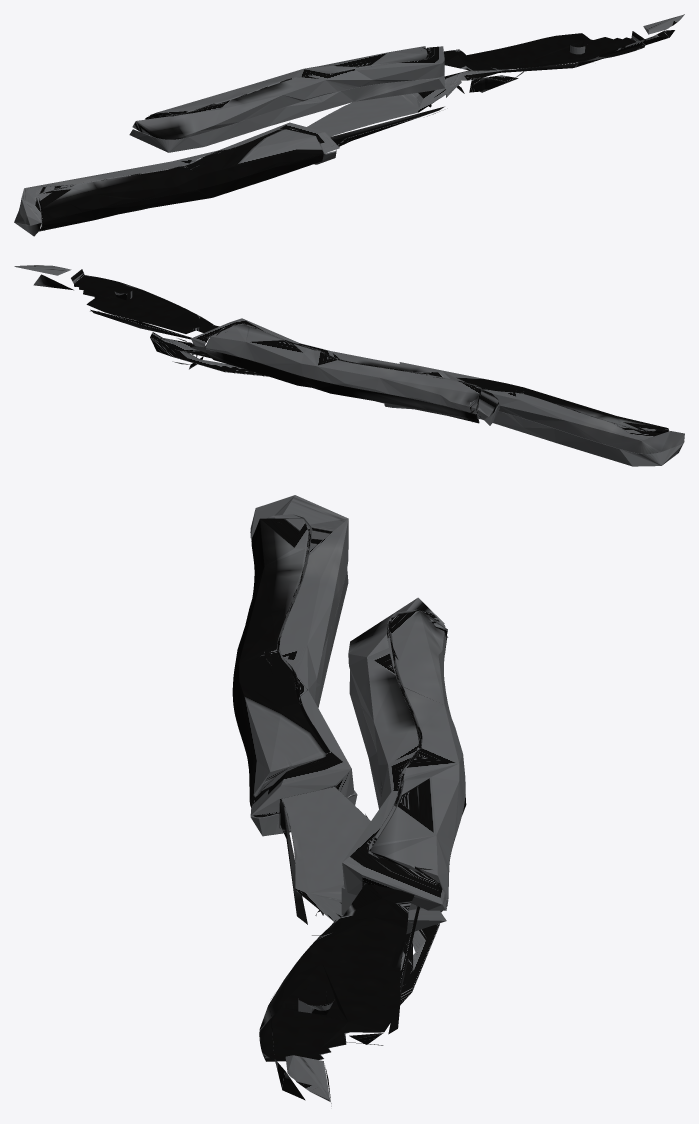
File: handTool_pliers_combination_b01.glb
3 views of the same model, one above another, from view 1: azimuth 30°, elevation 25°; view 2: azimuth 150°, elevation 25°; view 3: azimuth 270°, elevation 25° (orthographic). The views are drawn at different scales.
Parts seen in each view (by area): view 1: geometry_0; view 2: geometry_0; view 3: geometry_0.
Boxes of the visible parts, x1,y1,x2,y2 form: geometry_0: (14, 14, 684, 236); geometry_0: (14, 265, 684, 466); geometry_0: (232, 495, 466, 1106).
Size of the model in its own units: 0.42 by 0.0344 by 0.0651.
1 material, 1 textured.
